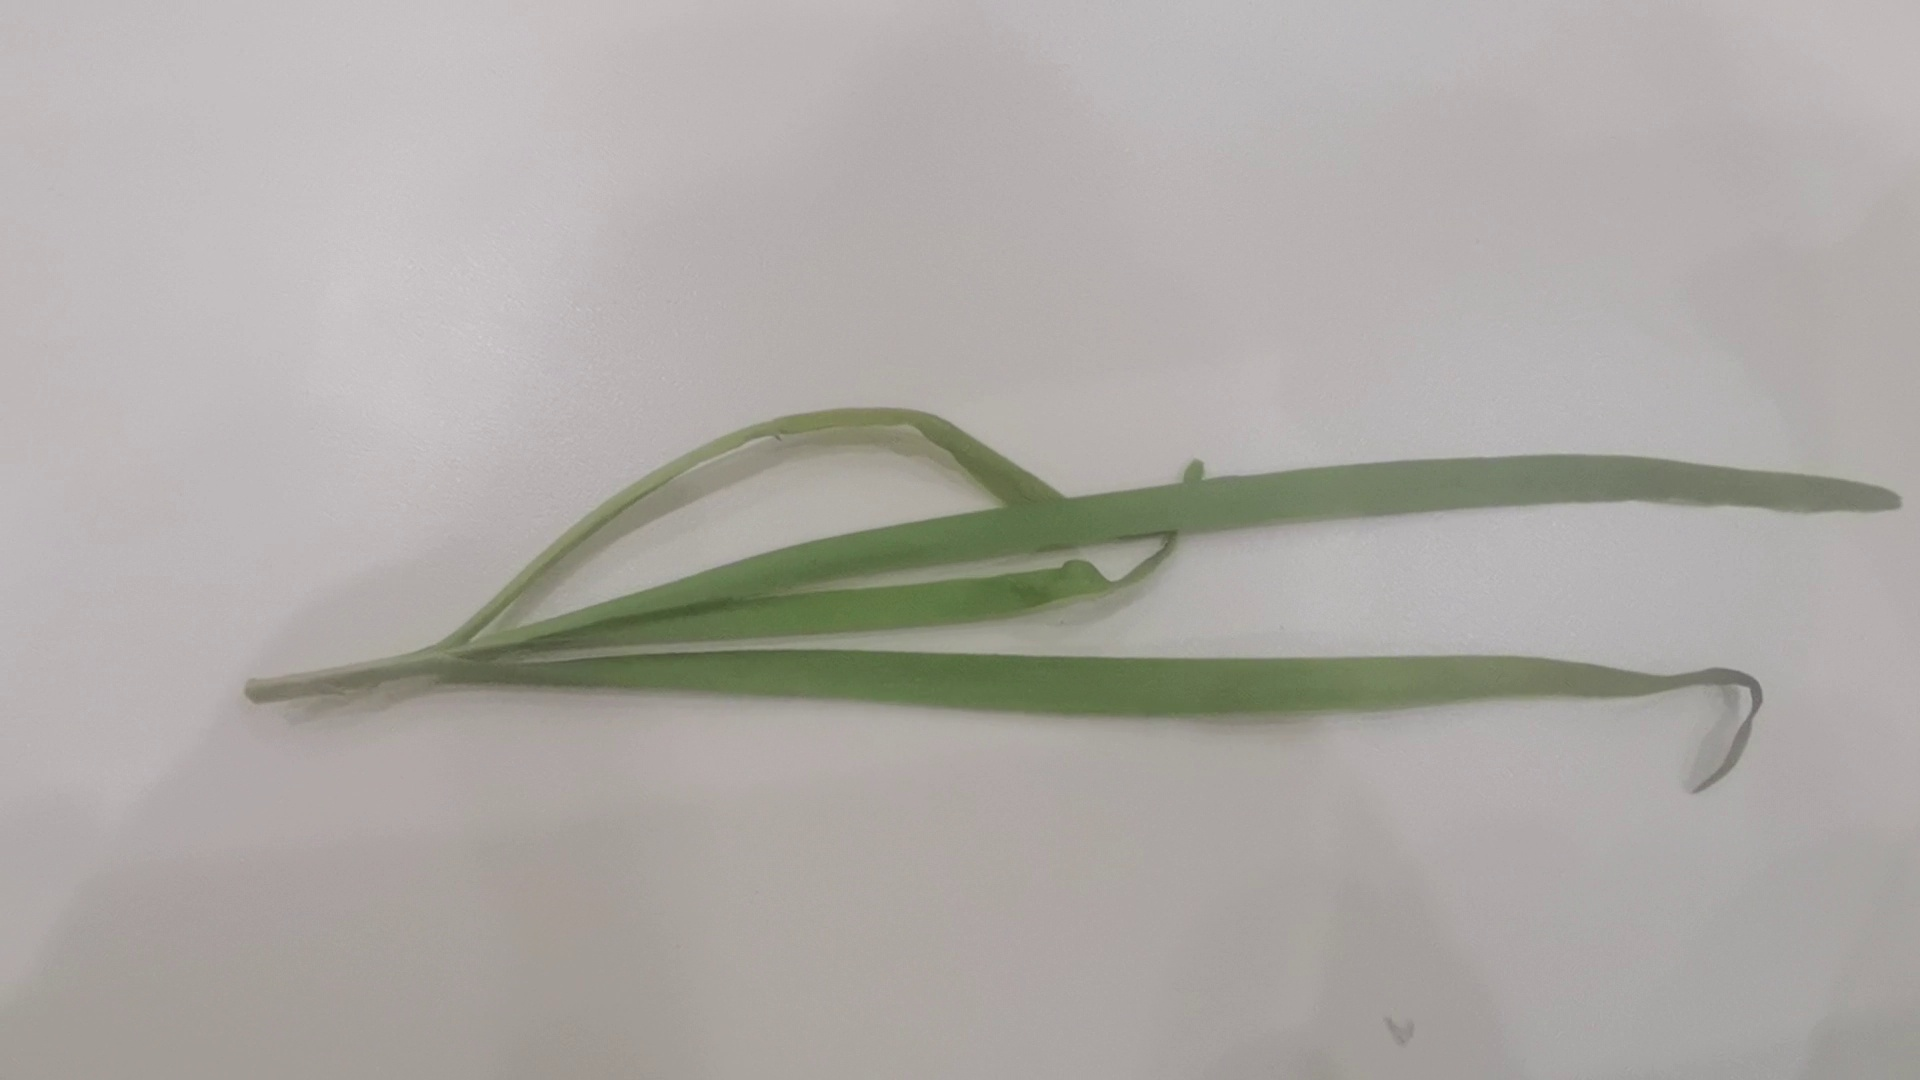chives: (208, 406, 1920, 796)
